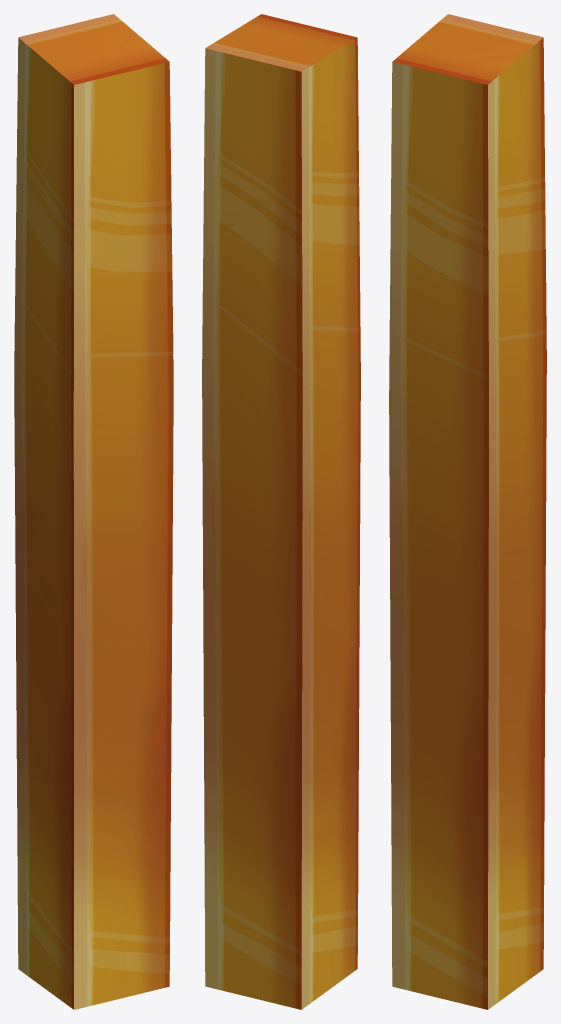
Rendered from Pillar_D_Bottom.fbx.
The picture shows the model from 3 angles, left to right: view 1: azimuth 30°, elevation 25°; view 2: azimuth 150°, elevation 25°; view 3: azimuth 330°, elevation 25°; orthographic projection.
Visible parts, largest first — view 1: Pillar_W_C_Middle; view 2: Pillar_W_C_Middle; view 3: Pillar_W_C_Middle.
Boxes of the visible parts, <box> form: Pillar_W_C_Middle: <box>14,14,173,1009</box>; Pillar_W_C_Middle: <box>202,14,360,1009</box>; Pillar_W_C_Middle: <box>389,14,546,1009</box>.
Bounding box in the file's own units: 28.53 × 252 × 28.77.
